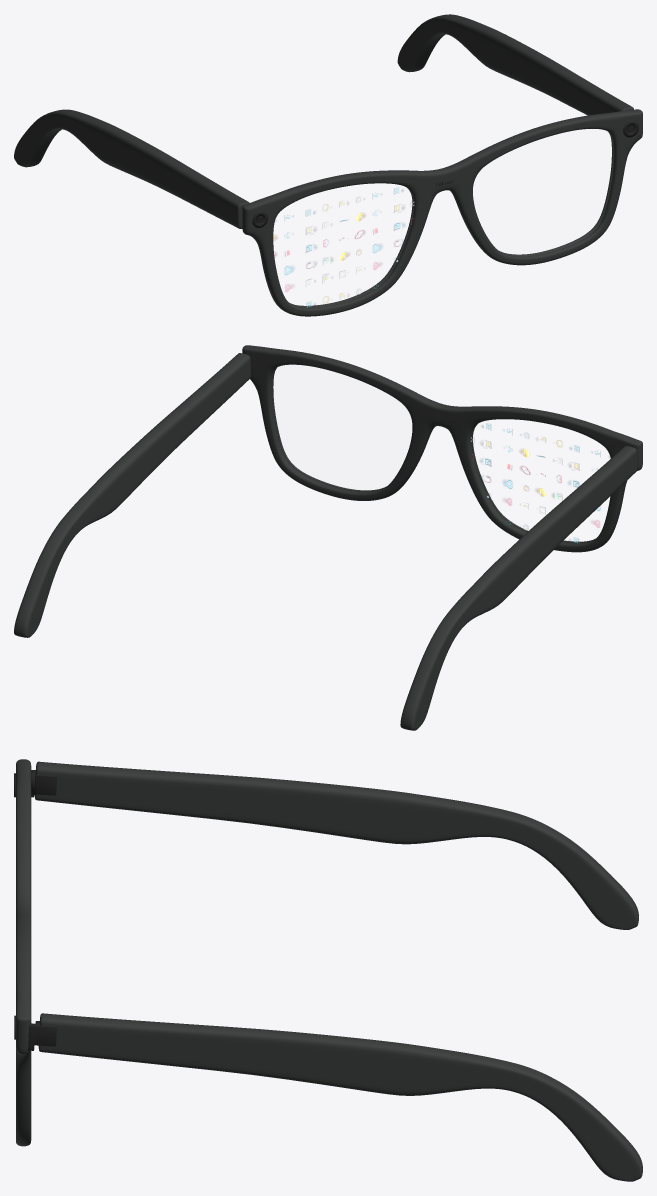
File: RayBan_Effects_2026.glb
3 views of the same model, one above another, from view 1: azimuth 30°, elevation 25°; view 2: azimuth 150°, elevation 25°; view 3: azimuth 270°, elevation 25° (orthographic). The views are drawn at different scales.
Parts seen in each view (by area): view 1: Frame_Arm, Lens_L; view 2: Frame_Arm, Lens_L; view 3: Frame_Arm.
Boxes of the visible parts, x1=… form: Frame_Arm: x1=14, y1=14, x2=642, y2=316; Lens_L: x1=273, y1=188, x2=414, y2=307; Frame_Arm: x1=14, y1=345, x2=642, y2=730; Lens_L: x1=471, y1=423, x2=600, y2=543; Frame_Arm: x1=16, y1=759, x2=642, y2=1181.
Bounding box in the file's own units: 1.55 × 0.5026 × 1.58.
5 materials, 1 textured.
